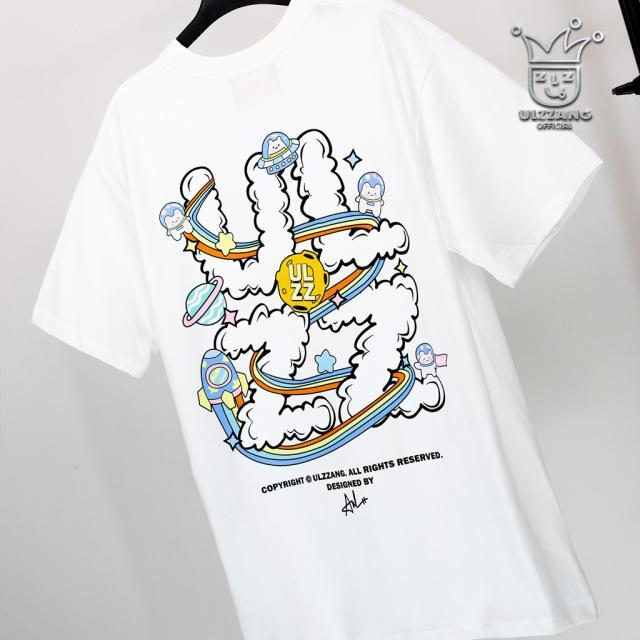Shirt: (28, 7, 608, 638)
